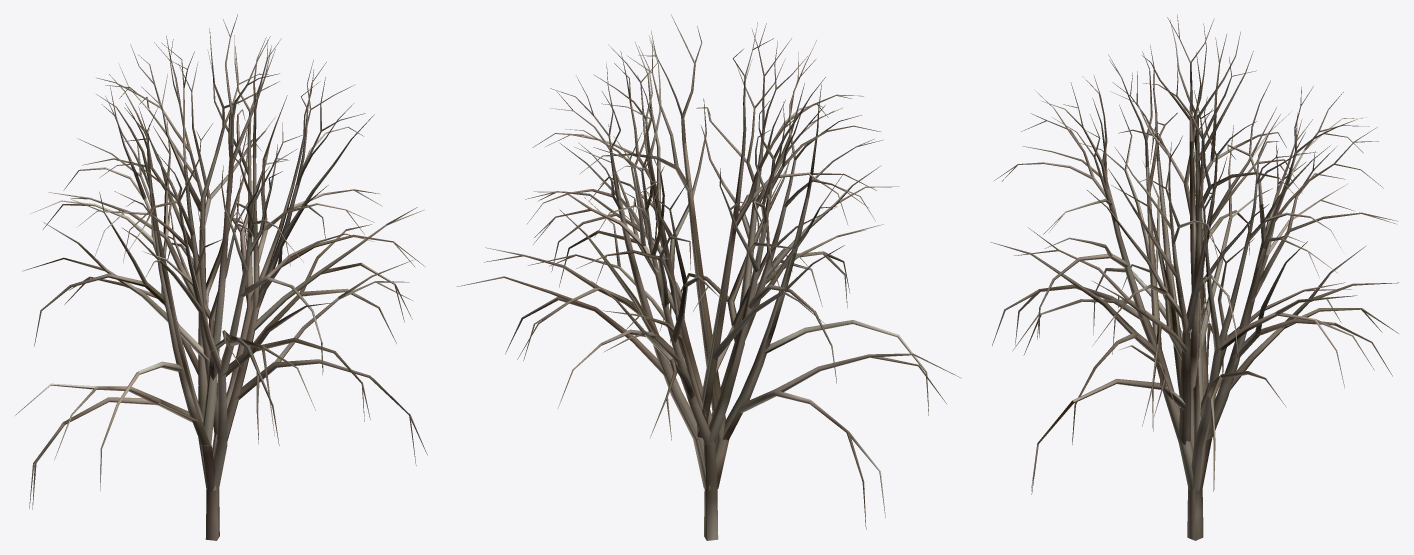
Rendered from Trees-1-tex.fbx.
The picture shows the model from 3 angles, left to right: view 1: azimuth 30°, elevation 25°; view 2: azimuth 150°, elevation 25°; view 3: azimuth 270°, elevation 25°; orthographic projection.
Visible parts, largest first — view 1: tree.001; view 2: tree.001; view 3: tree.001.
Boxes of the visible parts, x1,y1,x2,y2 form: tree.001: (15,14,427,540); tree.001: (456,14,961,540); tree.001: (990,14,1399,540).
Size of the model in its own units: 529 by 596 by 438.
